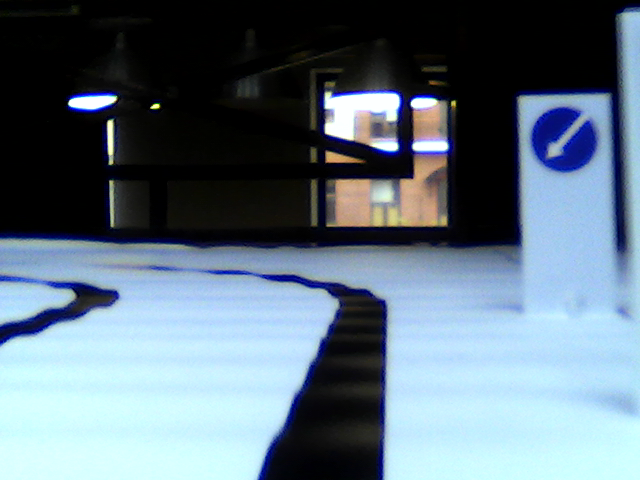prep: (529, 109, 599, 172)
